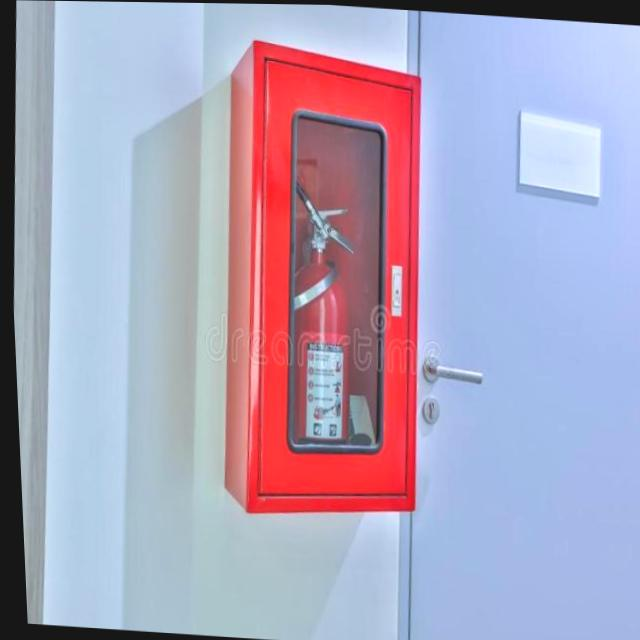FireExtinguisher: (269, 186, 369, 493)
